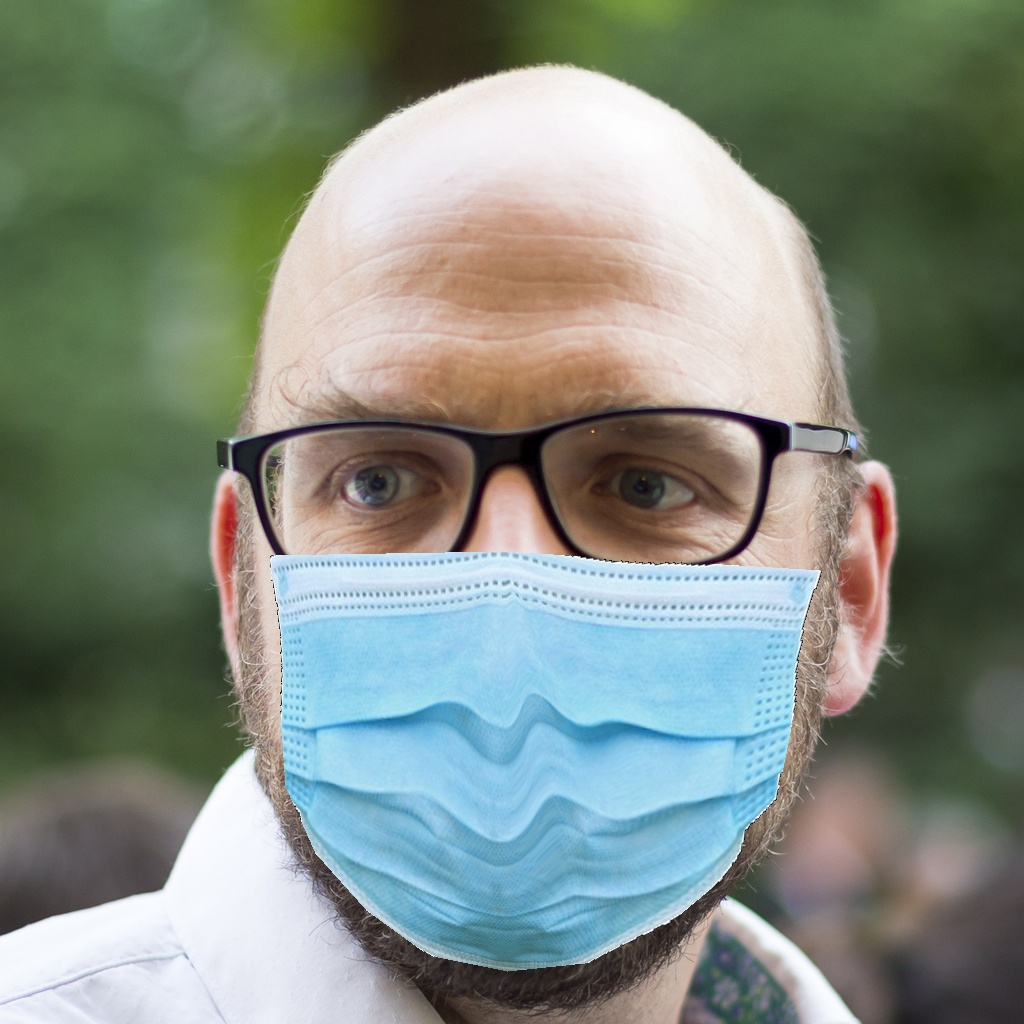with_mask: (244, 392, 834, 978)
